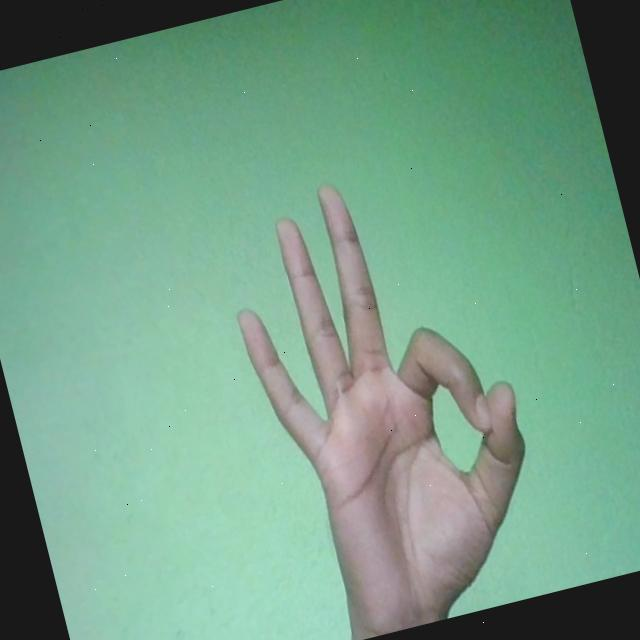Rock On: (210, 149, 561, 640)
